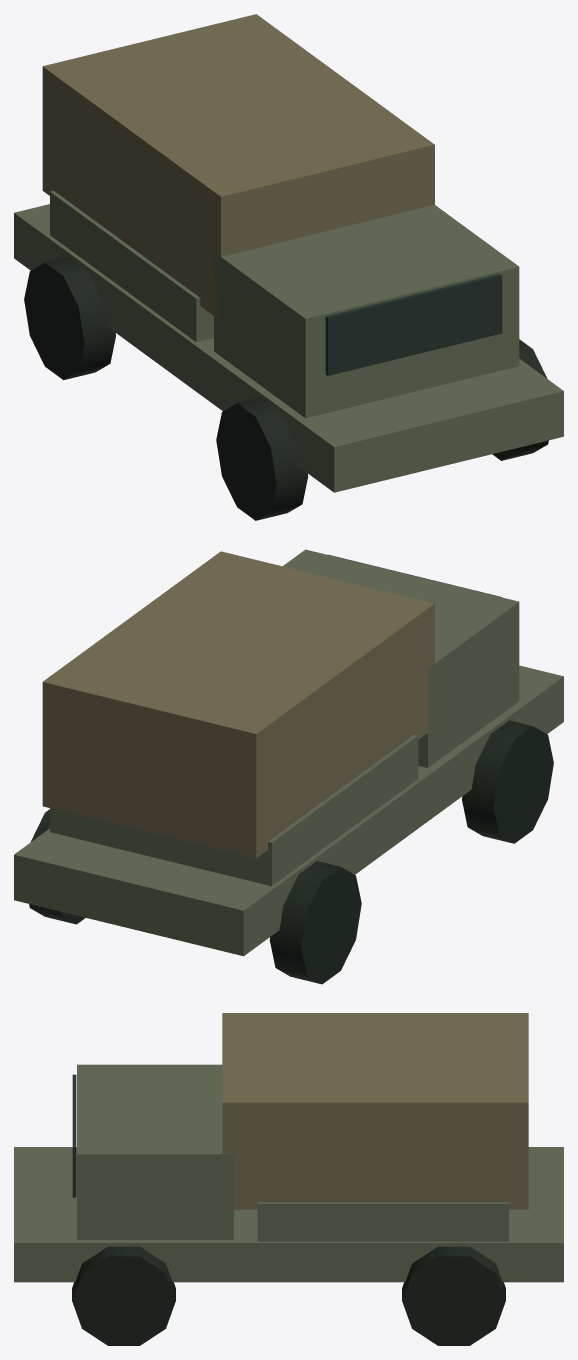
File: transport.glb
3 renders of one model, top to bottom at view 1: azimuth 30°, elevation 25°; view 2: azimuth 150°, elevation 25°; view 3: azimuth 270°, elevation 25°, orthographic. The views are drawn at different scales.
Parts seen in each view (by area): view 1: transport; view 2: transport; view 3: transport.
Boxes of the visible parts, x1=… form: transport: x1=14, y1=14, x2=563, y2=520; transport: x1=14, y1=549, x2=563, y2=984; transport: x1=14, y1=1013, x2=563, y2=1345.
Size of the model in its own units: 3.5 by 3.23 by 7.
